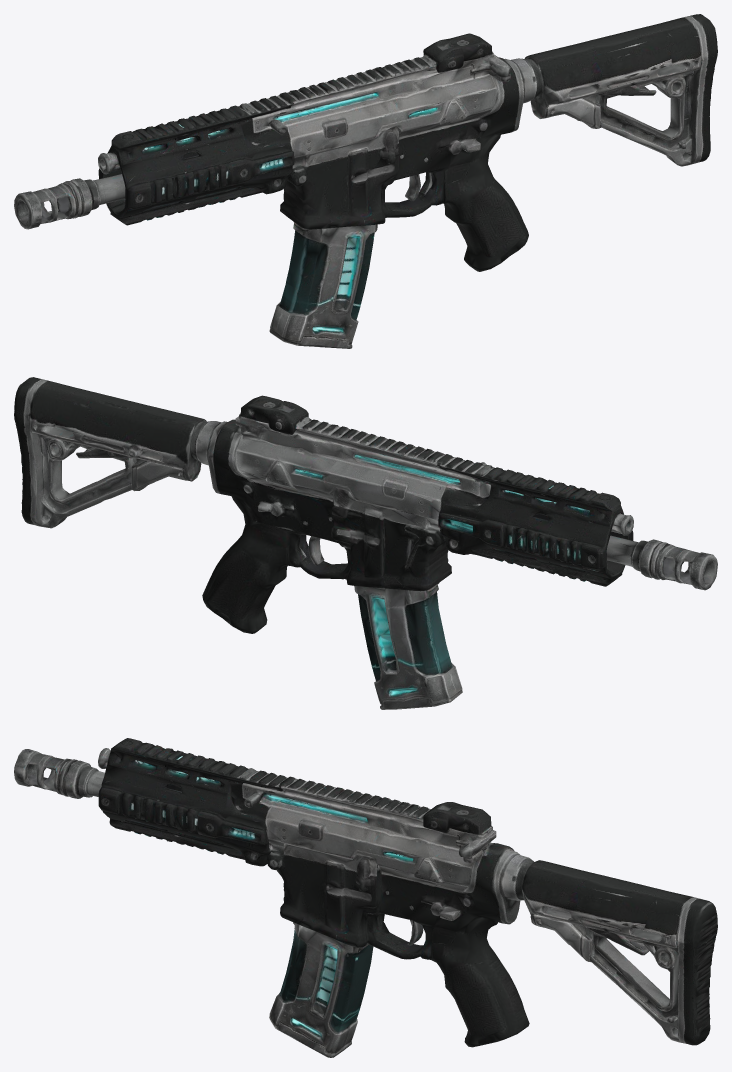
File: Meshy_AI_Make_a_futureristic_A_1022125538_texture.glb
3 views of the same model, one above another, from view 1: azimuth 30°, elevation 25°; view 2: azimuth 150°, elevation 25°; view 3: azimuth 330°, elevation 25° (orthographic).
Size of the model in its own units: 1.9 by 0.7169 by 0.1949.
Materials: 1 (1 with a texture image).
